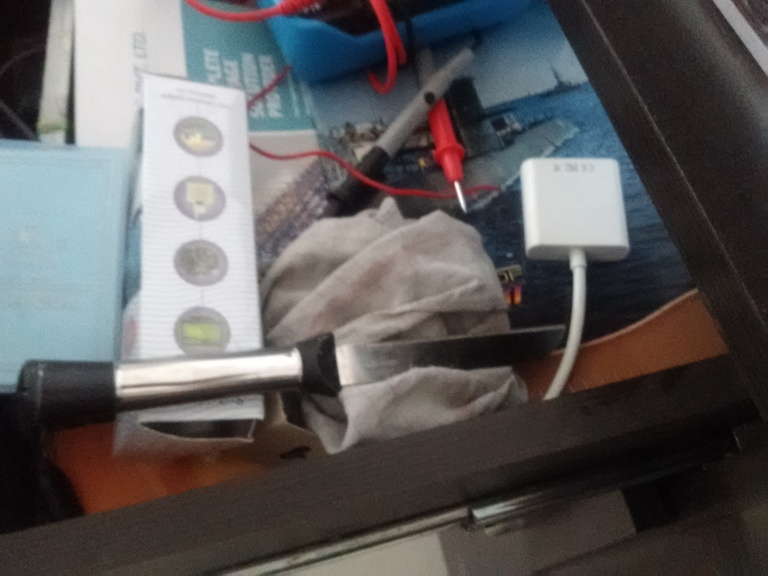knife: (19, 325, 575, 429)
